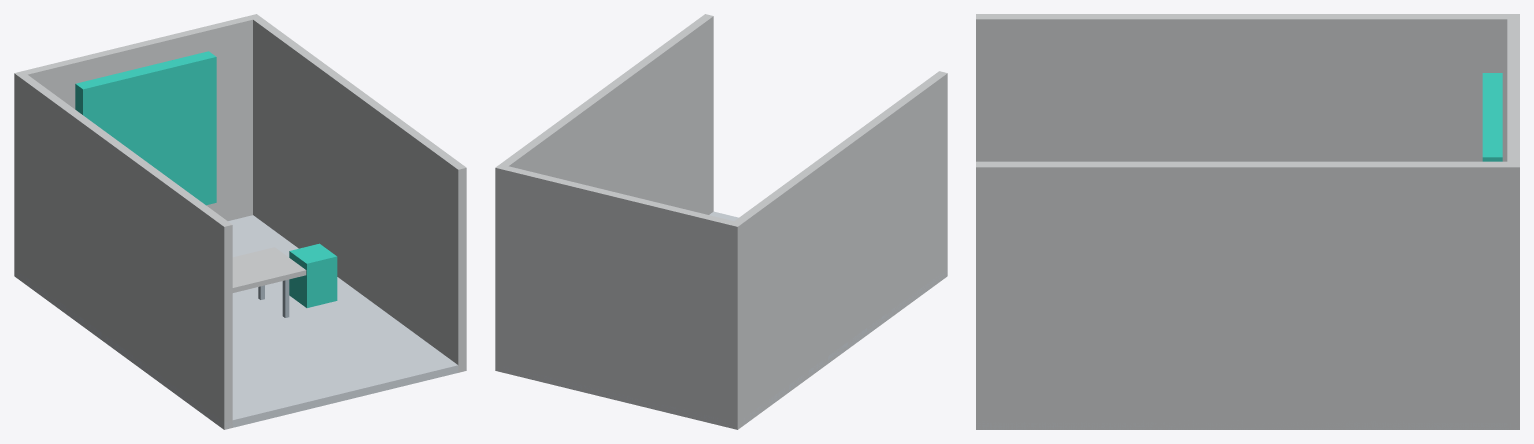
3 views of the same model, side by side, from view 1: azimuth 30°, elevation 25°; view 2: azimuth 150°, elevation 25°; view 3: azimuth 270°, elevation 25° (orthographic). The views are drawn at different scales.
Visible parts, largest first — view 1: Exhibition Booth Concept; view 2: Exhibition Booth Concept; view 3: Exhibition Booth Concept.
Part boxes in pixels (x1,y1,x2,y2): Exhibition Booth Concept: (14,14,466,429); Exhibition Booth Concept: (495,14,947,429); Exhibition Booth Concept: (976,14,1519,429).
Size of the model in its own units: 4 by 3.2 by 6.
